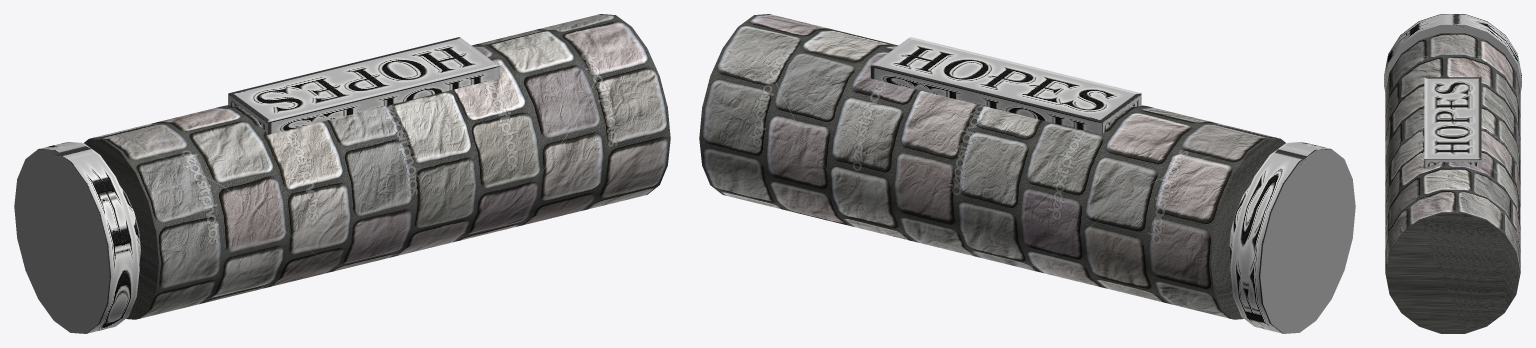
The model's file is TrueHope.FBX.
The picture shows the model from 3 angles, left to right: view 1: azimuth 30°, elevation 25°; view 2: azimuth 150°, elevation 25°; view 3: azimuth 270°, elevation 25°; orthographic projection. The views are drawn at different scales.
Parts seen in each view (by area): view 1: Box001; view 2: Box001; view 3: Box001.
Part boxes in pixels (<box>): Box001: <box>14,14,670,333</box>; Box001: <box>699,14,1355,333</box>; Box001: <box>1384,14,1521,333</box>.
Bounding box in the file's own units: 267 × 78.82 × 78.62.
Materials: 2 (2 with a texture image).
